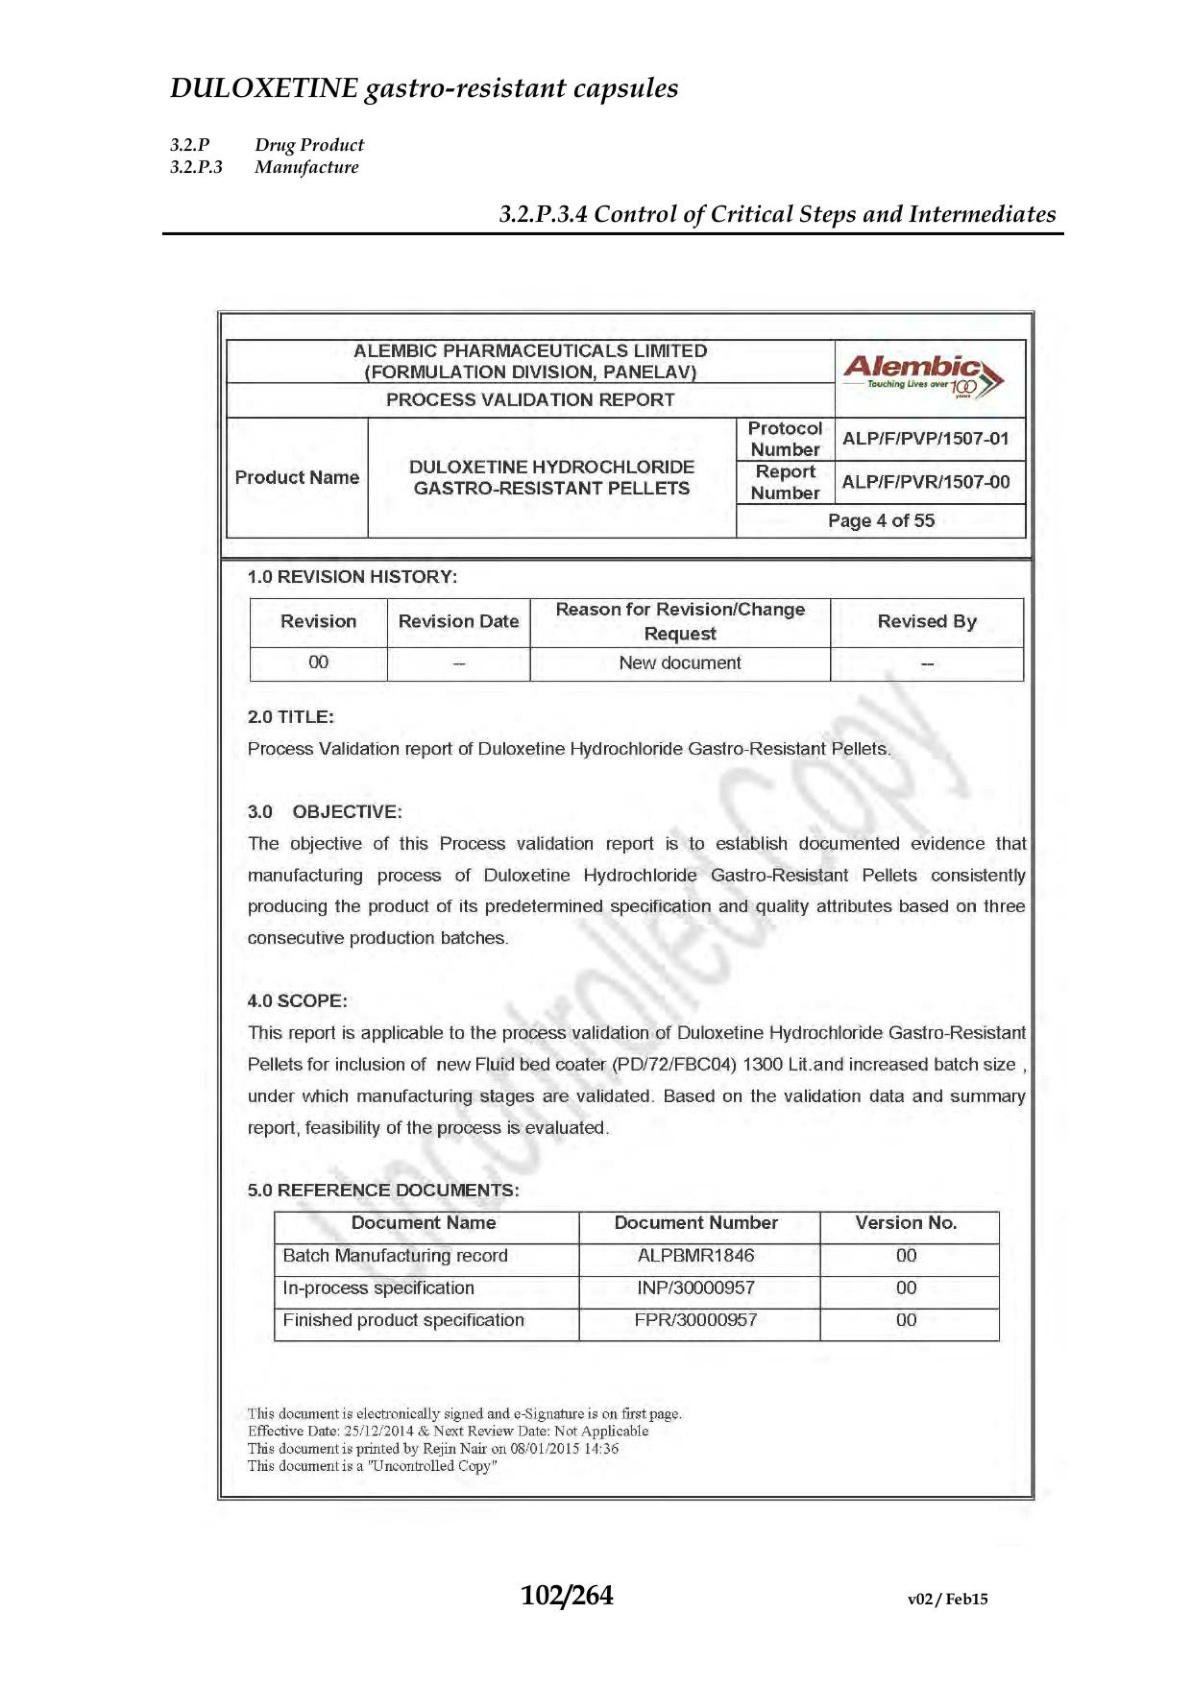full_lined: (271, 1209, 1001, 1343), (248, 596, 1026, 683)
merged_cells: (224, 335, 1027, 541)
